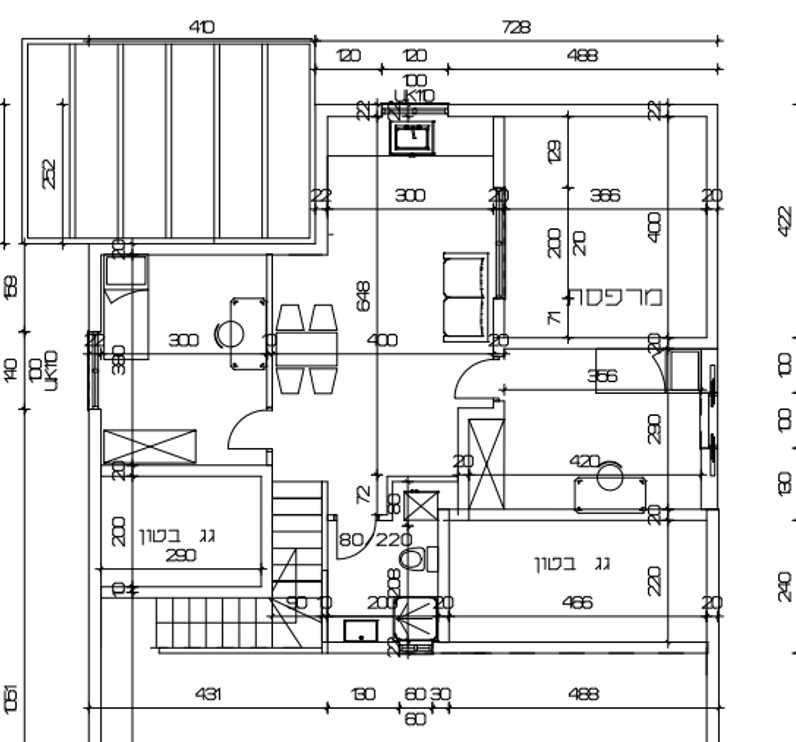door: (220, 404, 264, 457), (447, 356, 485, 401)
